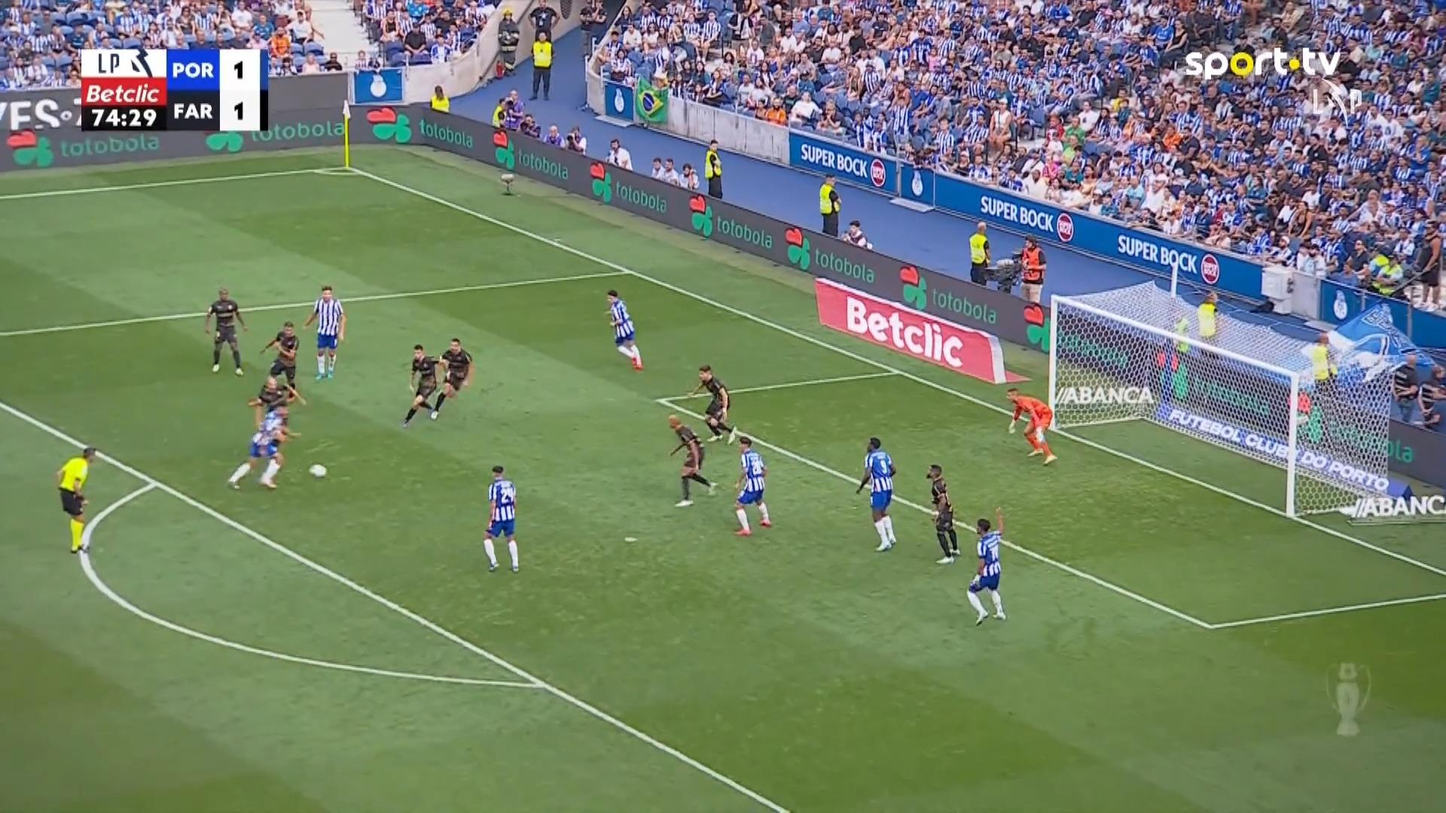ball: (308, 463, 326, 477)
goalkeeper: (1005, 386, 1057, 465)
player: (226, 406, 301, 489), (854, 436, 897, 552), (966, 506, 1007, 626), (667, 415, 717, 507), (730, 434, 772, 536), (685, 363, 737, 443), (482, 464, 520, 573), (203, 286, 249, 376), (303, 285, 346, 380), (247, 374, 306, 437), (429, 337, 473, 419), (926, 463, 960, 564), (401, 343, 440, 428), (604, 288, 644, 370), (259, 319, 299, 391)
referee: (55, 445, 97, 553)
